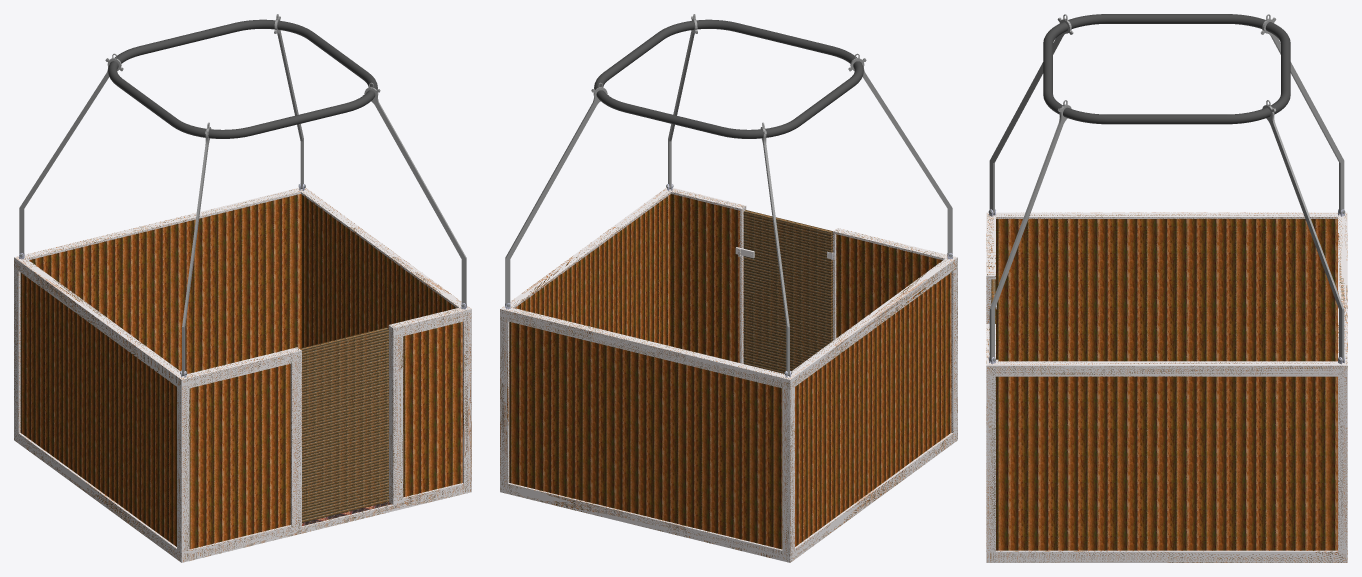
Rendered from cesta-balão.dae.
The picture shows the model from 3 angles, left to right: view 1: azimuth 30°, elevation 25°; view 2: azimuth 150°, elevation 25°; view 3: azimuth 270°, elevation 25°; orthographic projection. The views are drawn at different scales.
Visible parts, largest first — view 1: Basket, Frame, Basket_Door, Basket_Balloon_Tie_Ring, Bskt_Support_Assy_1 (×4); view 2: Basket, Frame, Basket_Door, Basket_Balloon_Tie_Ring, Bskt_Support_Assy_1 (×4); view 3: Basket, Frame, Basket_Balloon_Tie_Ring, Bskt_Support_Assy_1 (×4).
Boxes of the visible parts, x1,y1,x2,y2 form: Basket: (20, 194, 462, 549); Frame: (14, 188, 471, 562); Basket_Door: (299, 327, 388, 522); Basket_Balloon_Tie_Ring: (108, 19, 377, 138); Bskt_Support_Assy_1 (×4): (19, 14, 466, 375); Basket: (509, 194, 951, 549); Frame: (500, 187, 957, 562); Basket_Door: (743, 210, 832, 373); Basket_Balloon_Tie_Ring: (594, 19, 863, 138); Bskt_Support_Assy_1 (×4): (505, 14, 952, 375); Basket: (996, 219, 1337, 550); Frame: (986, 212, 1347, 562); Basket_Balloon_Tie_Ring: (1043, 14, 1290, 124); Bskt_Support_Assy_1 (×4): (989, 14, 1344, 361).
Bounding box in the file's own units: 73 × 73 × 95.62.
10 materials, 4 textured.
